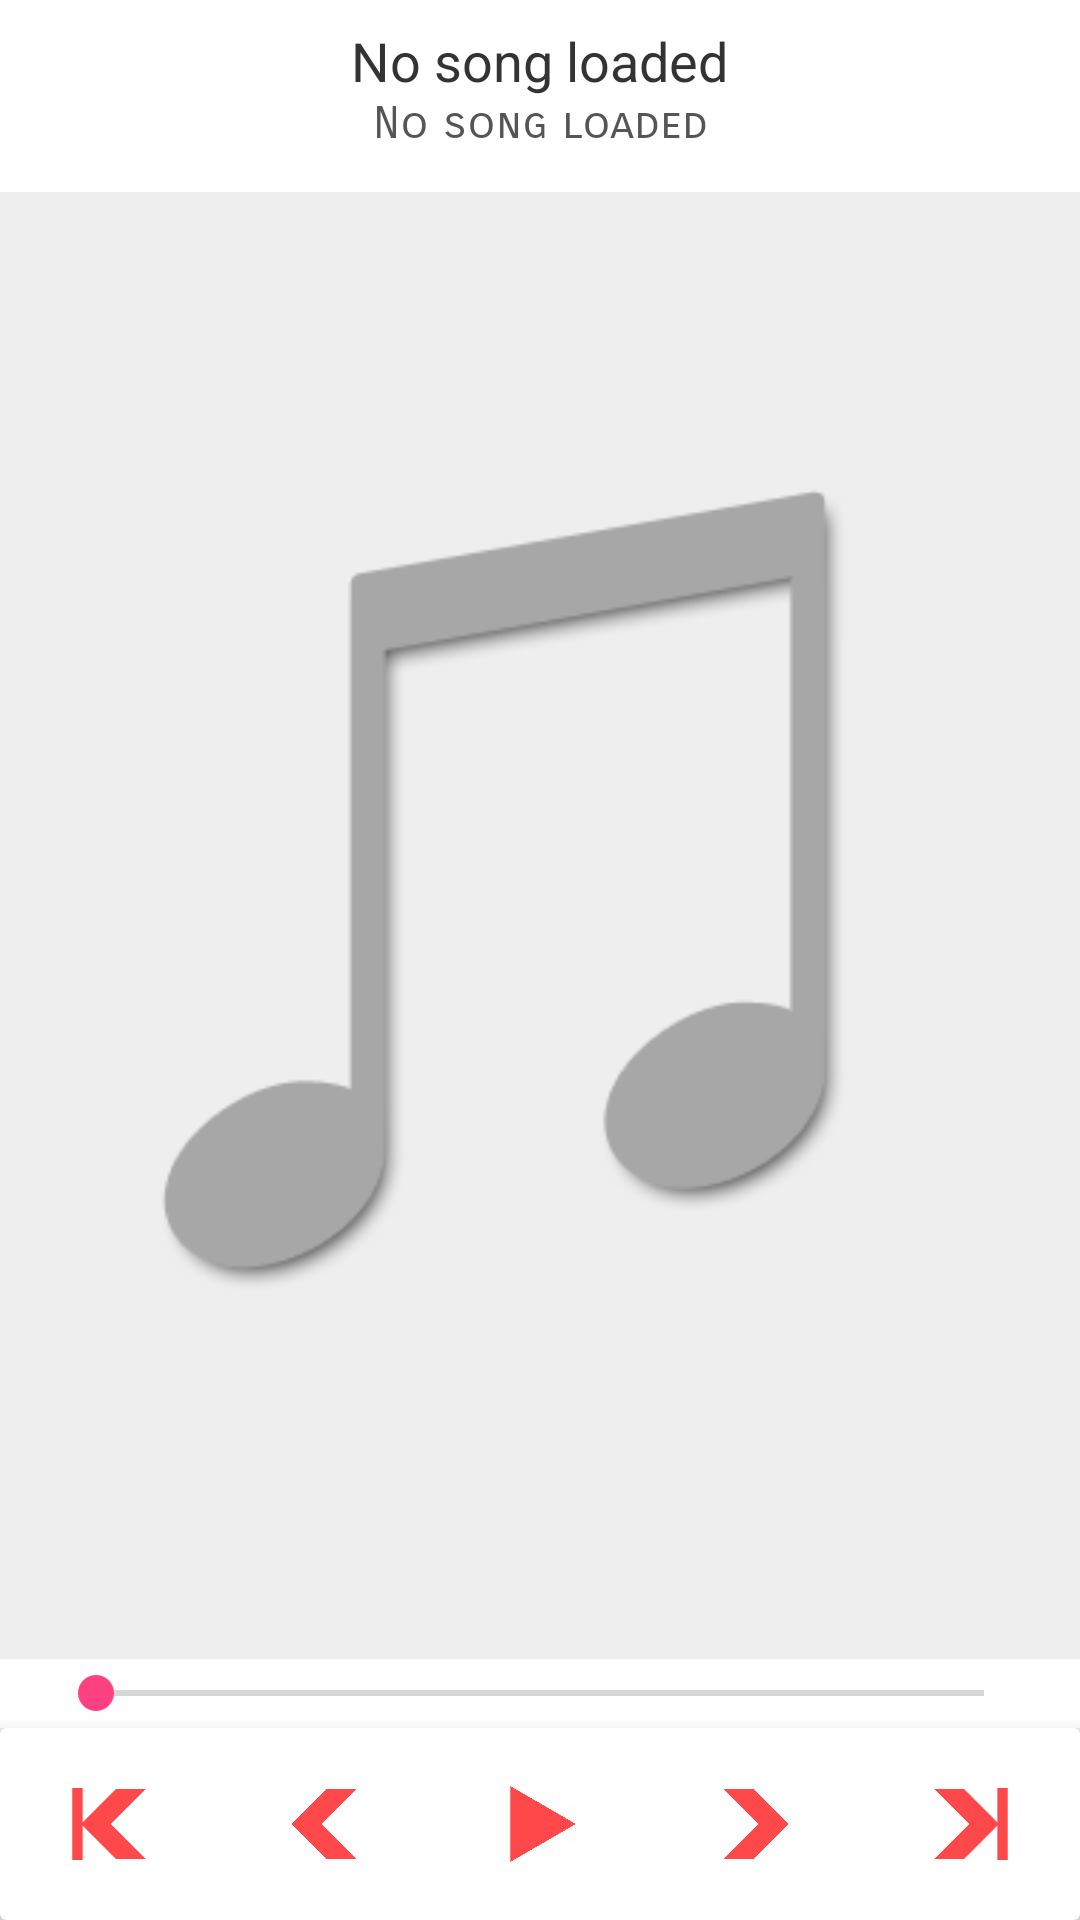

Point at icon controls on the screen. Image size 1080x1920, points as [x,y].
forward: [756,1824]
play: [542,1824]
rewind: [324,1824]
